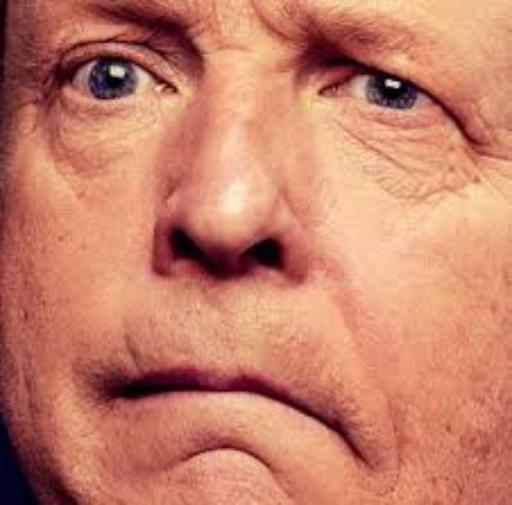left_eye: (319, 66, 448, 118)
left_lip_corner: (291, 391, 377, 470)
right_eye: (60, 55, 178, 109)
right_lip_corner: (89, 373, 145, 411)
